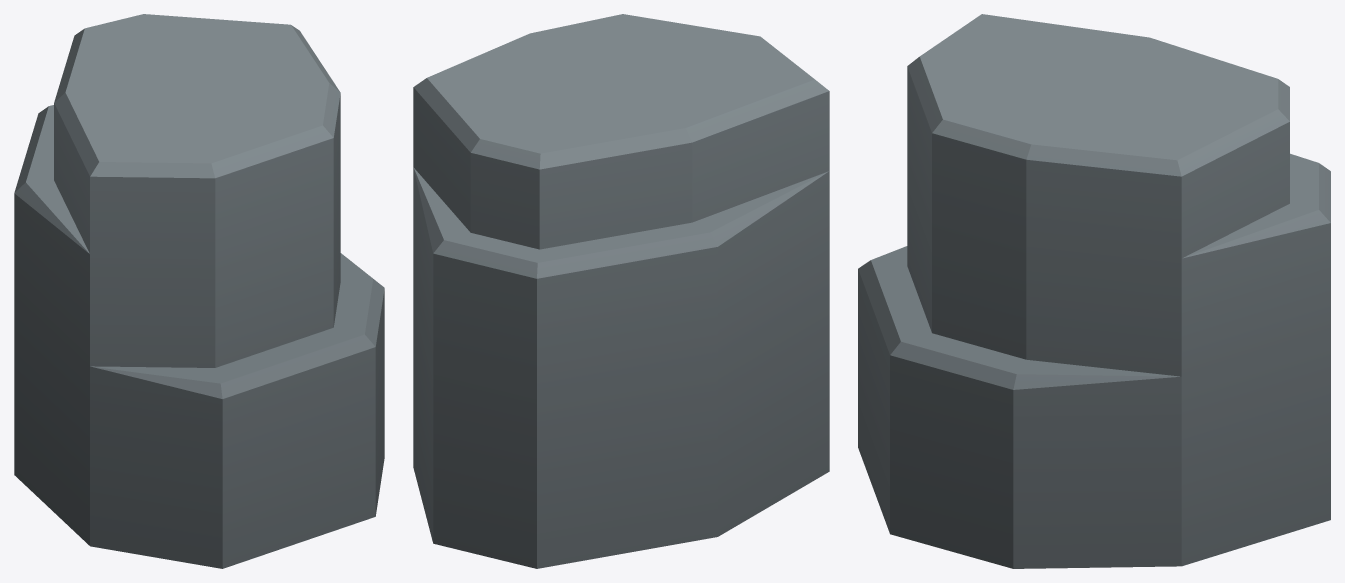
Rendered from kf_rock_1_i.fbx.
The picture shows the model from 3 angles, left to right: view 1: azimuth 30°, elevation 25°; view 2: azimuth 150°, elevation 25°; view 3: azimuth 270°, elevation 25°; orthographic projection. The views are drawn at different scales.
Parts seen in each view (by area): view 1: kf_rock_1_i; view 2: kf_rock_1_i; view 3: kf_rock_1_i.
Boxes of the visible parts, box(x1,y1,x2,y2) form: kf_rock_1_i: box(14, 14, 384, 568); kf_rock_1_i: box(413, 14, 829, 568); kf_rock_1_i: box(858, 14, 1330, 568).
Bounding box in the file's own units: 3.85 × 4.48 × 4.8.
Materials: 1 (1 with a texture image).
